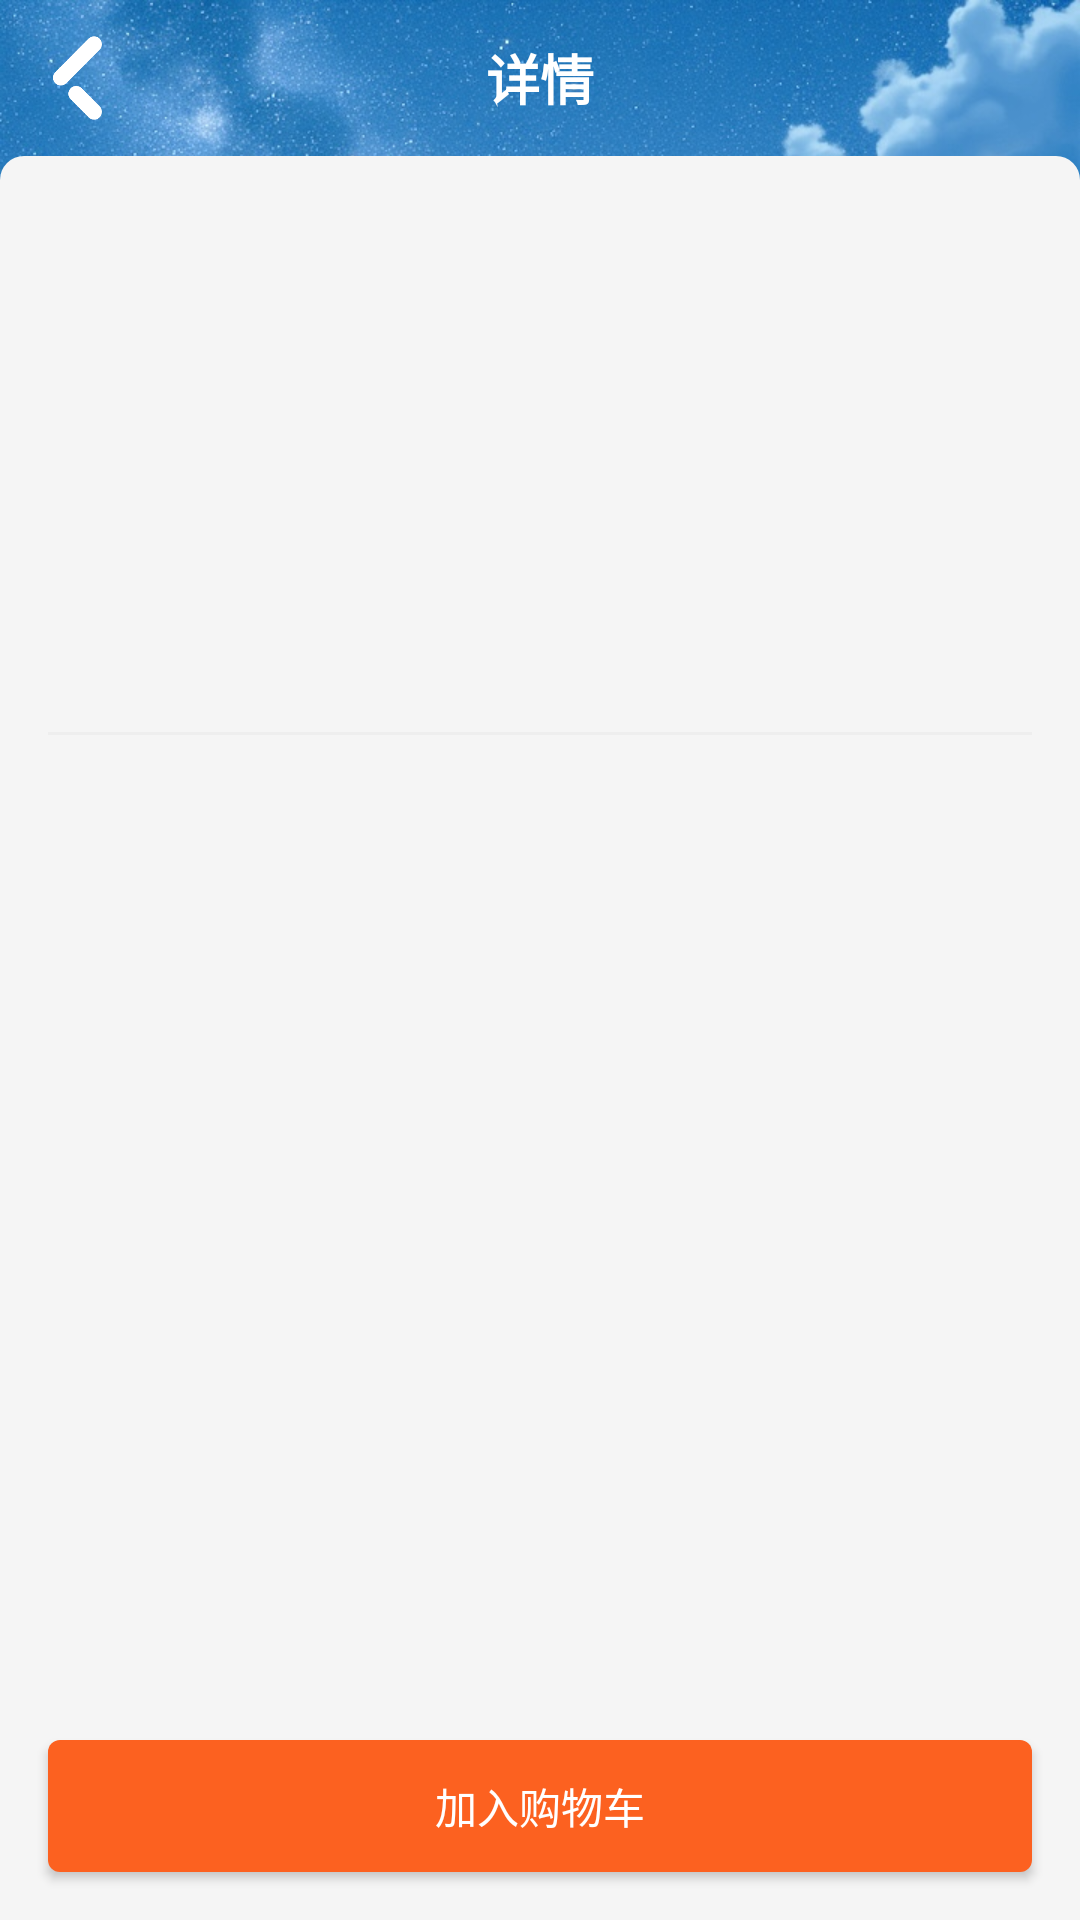

Where to tap for icons on this 1080x1920 app screen, as [x,y]:
goback: [78,78]
